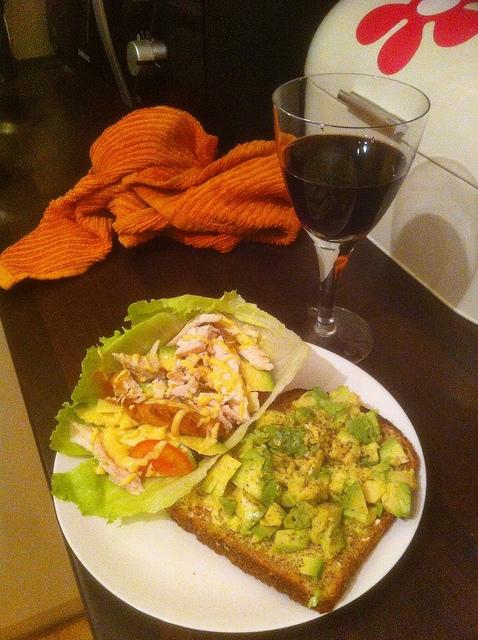avocado: (202, 452, 242, 497), (238, 354, 276, 392), (311, 502, 342, 546), (234, 490, 268, 530), (73, 401, 123, 426), (231, 454, 265, 489), (268, 426, 306, 456), (381, 481, 411, 518), (178, 434, 228, 456), (378, 437, 410, 471), (283, 500, 319, 530), (244, 477, 276, 508), (360, 470, 386, 506), (347, 415, 378, 445), (273, 528, 311, 552), (342, 480, 368, 514), (342, 503, 376, 528), (385, 468, 419, 492), (292, 386, 328, 408), (358, 460, 391, 482), (255, 409, 286, 430), (300, 556, 325, 582), (262, 502, 288, 526), (160, 347, 183, 372), (251, 524, 279, 544), (328, 465, 348, 493), (328, 437, 351, 461), (359, 442, 380, 468), (328, 528, 345, 560), (307, 450, 325, 477), (345, 462, 361, 487), (218, 498, 238, 516), (295, 406, 315, 424), (300, 485, 321, 501), (328, 386, 350, 400), (281, 490, 297, 508), (262, 450, 274, 474), (320, 398, 336, 416), (308, 590, 322, 609), (292, 470, 307, 487), (262, 424, 282, 436), (228, 516, 243, 532), (138, 382, 153, 398), (288, 478, 300, 497), (348, 442, 361, 459), (334, 413, 351, 424), (376, 502, 384, 517)
lettuce: (48, 289, 311, 525), (138, 441, 166, 466)
tomato: (129, 440, 194, 477)
